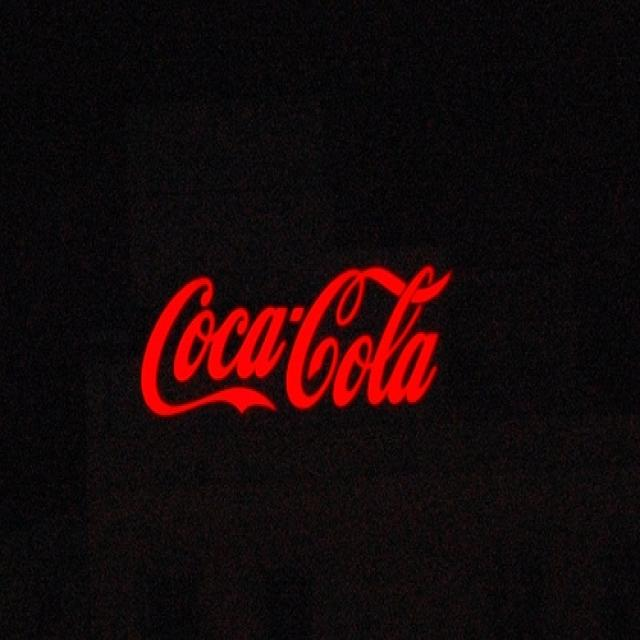cocacola: (132, 254, 462, 425)
